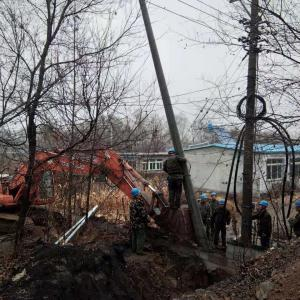blue: (132, 189, 142, 200), (259, 201, 269, 212), (168, 149, 177, 157), (295, 200, 300, 213), (202, 195, 208, 204), (221, 199, 226, 209), (212, 193, 217, 201)
